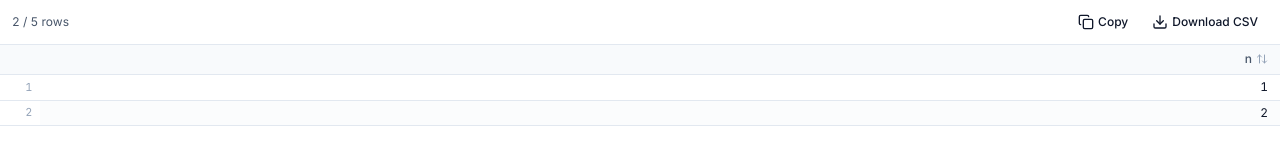
ResultsTable sorting › flags the row count as partial while a sort is active and not all rows are loaded
Expected: the text "2 / 5 rows" is shown, [12,14,69,30]
Click the button "n". click: click(1256, 59)
box: [1245,51,1268,68]
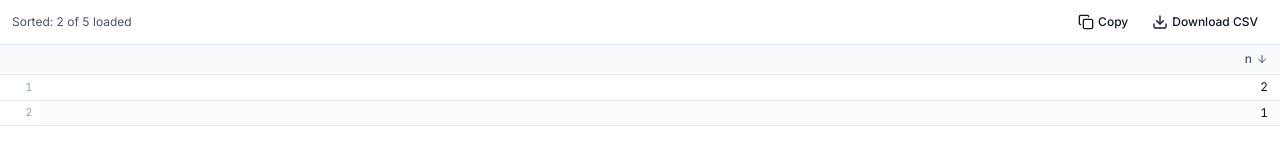
Now the text "Sorted: 2 of 5 loaded" is shown, box [12,14,132,30]
Clearing the sort (third click) restores the plain count.
Click the button "n". click: click(1256, 59)
box: [1245,51,1268,68]
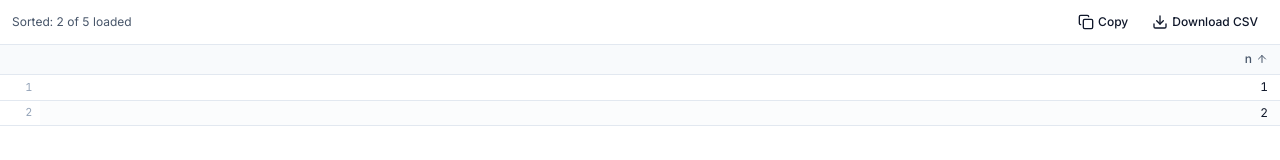
Click the button "n". click: click(1256, 59)
box: [1245,51,1268,68]
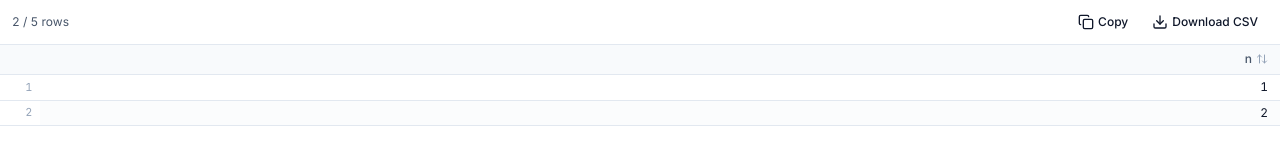
Now the text "2 / 5 rows" is shown, box [12,14,69,30]
